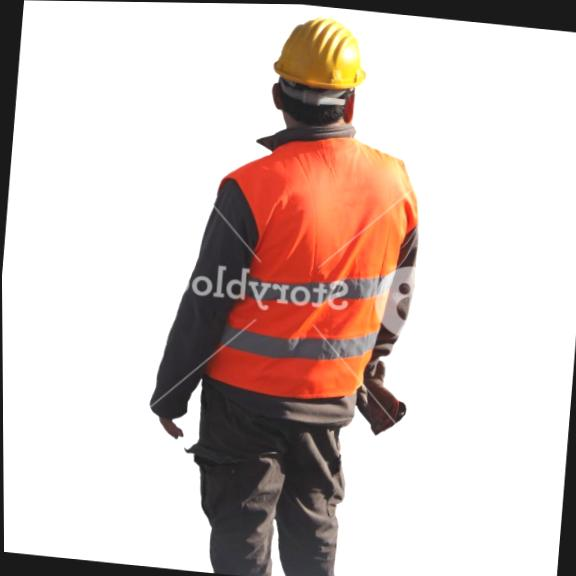safety_vest: (180, 122, 423, 432)
